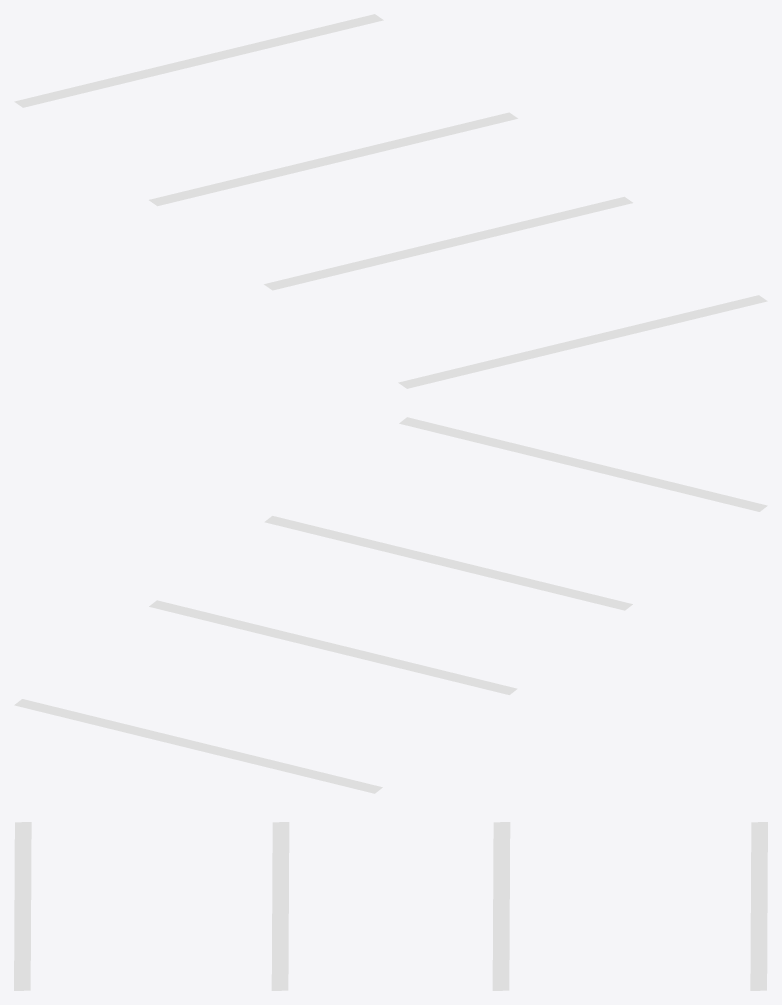
The model's file is Park-08.fbx.
3 views of the same model, one above another, from view 1: azimuth 30°, elevation 25°; view 2: azimuth 150°, elevation 25°; view 3: azimuth 270°, elevation 25° (orthographic). The views are drawn at different scales.
Visible parts, largest first — view 1: Park-08; view 2: Park-08; view 3: Park-08.
Boxes of the visible parts, x1,y1,x2,y2 form: Park-08: (14,14,767,388); Park-08: (14,417,767,793); Park-08: (14,822,767,990).
Bounding box in the file's own units: 5.8 × 0 × 10.95.
